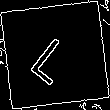L_NE: (27, 25, 83, 85)
